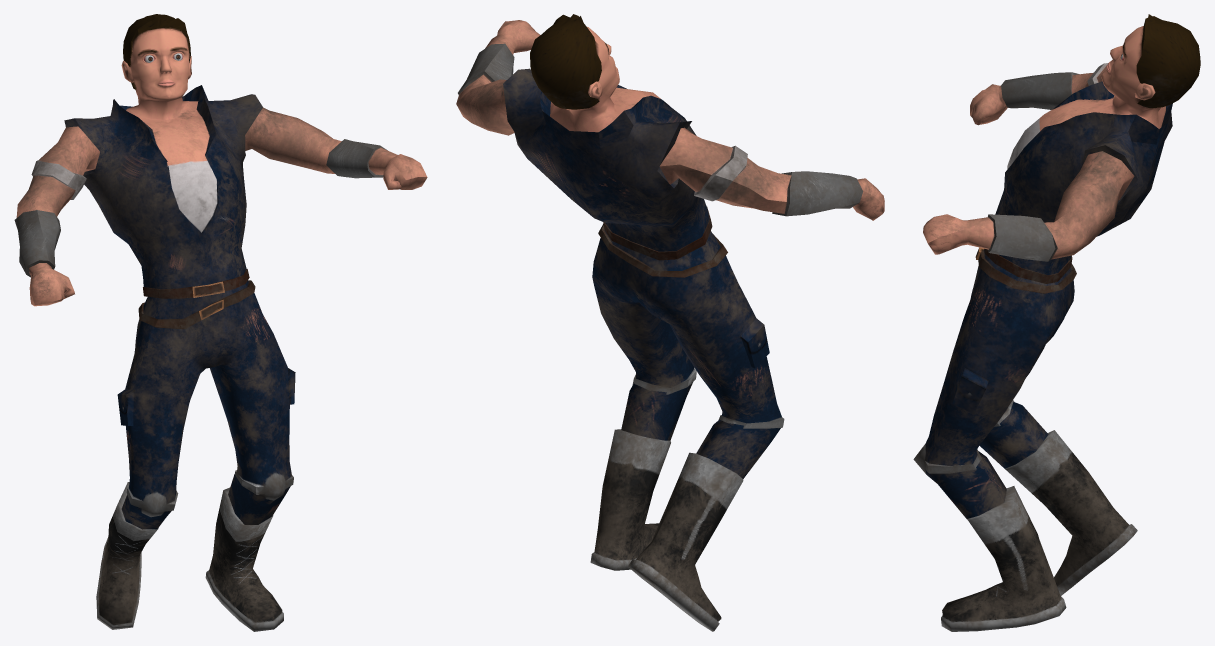
Rendered from Anim_recibirdanyo_jugador.0016.obj.
3 views of the same model, side by side, from view 1: azimuth 30°, elevation 25°; view 2: azimuth 150°, elevation 25°; view 3: azimuth 270°, elevation 25° (orthographic). The views are drawn at different scales.
Visible parts, largest first — view 1: polySurface1; view 2: polySurface1; view 3: polySurface1.
Boxes of the visible parts, box(x1,y1,x2,y2) form: polySurface1: box(14, 14, 427, 631); polySurface1: box(456, 14, 884, 631); polySurface1: box(913, 14, 1200, 631).
Size of the model in its own units: 6.25 by 9.13 by 3.83.
